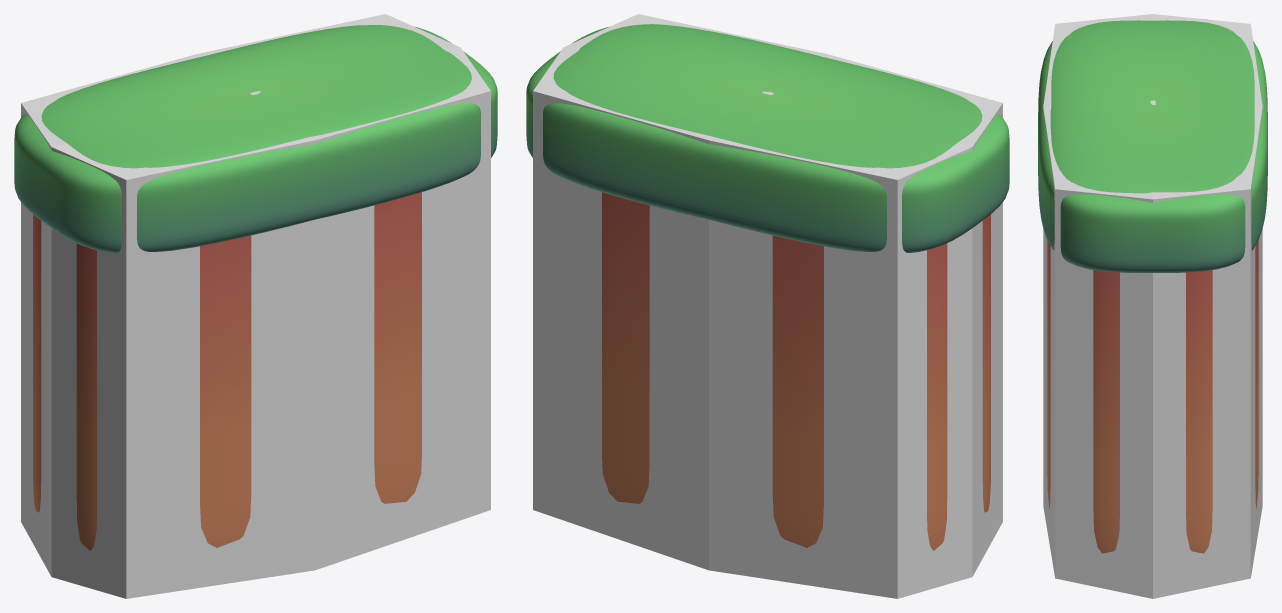
Rendered from PlatformMediumMedium.glb.
The picture shows the model from 3 angles, left to right: view 1: azimuth 30°, elevation 25°; view 2: azimuth 150°, elevation 25°; view 3: azimuth 270°, elevation 25°; orthographic projection. The views are drawn at different scales.
Parts seen in each view (by area): view 1: colision-colonly.007, PlatformMediumMedium; view 2: colision-colonly.007, PlatformMediumMedium; view 3: PlatformMediumMedium, colision-colonly.007.
Part boxes in pixels (left/top/right/bottom): colision-colonly.007: left=21, top=14, right=490, bottom=598; PlatformMediumMedium: left=14, top=25, right=497, bottom=550; colision-colonly.007: left=533, top=14, right=1002, bottom=598; PlatformMediumMedium: left=526, top=24, right=1009, bottom=550; PlatformMediumMedium: left=1038, top=19, right=1267, bottom=553; colision-colonly.007: left=1043, top=14, right=1262, bottom=598.
Size of the model in its own units: 4 by 3.88 by 2.
Materials: 1 (1 with a texture image).
